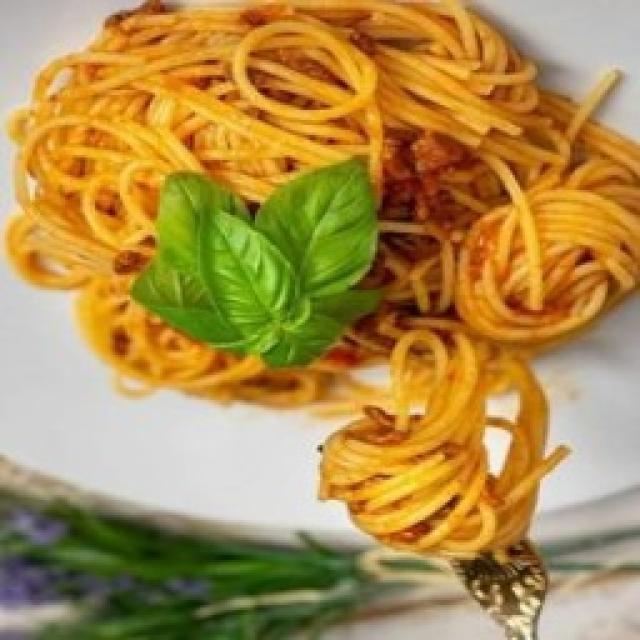Pasta: (5, 0, 640, 640)
